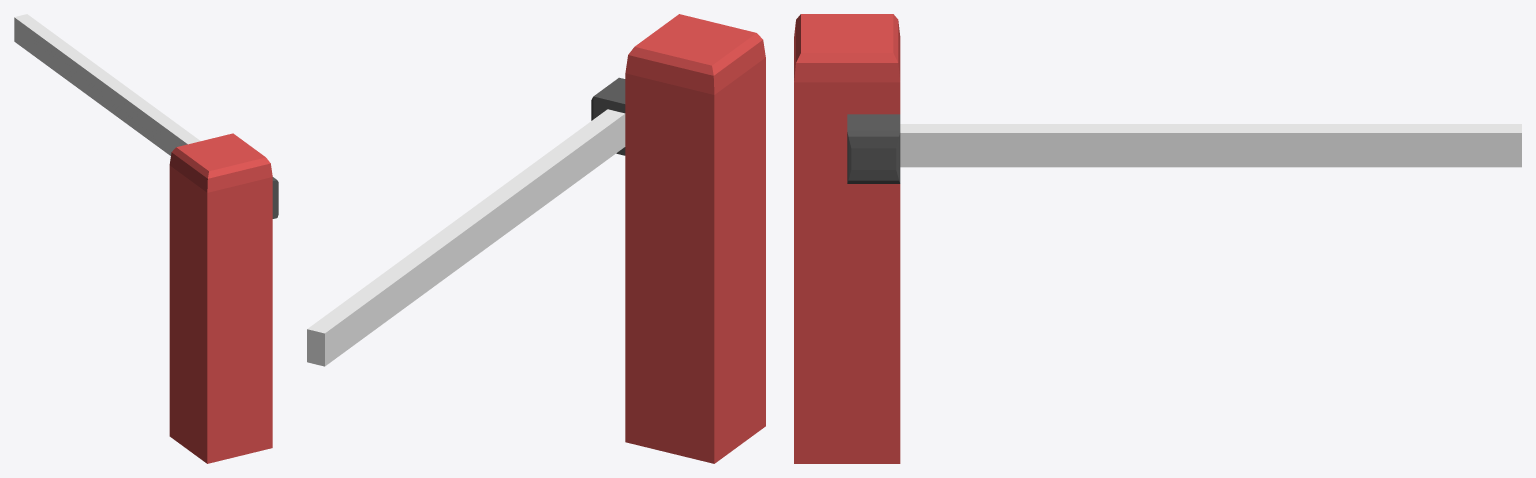
The model's file is Barrier 1.1.fbx.
3 views of the same model, side by side, from view 1: azimuth 30°, elevation 25°; view 2: azimuth 150°, elevation 25°; view 3: azimuth 270°, elevation 25° (orthographic). The views are drawn at different scales.
Visible parts, largest first — view 1: Barrier_6.001; view 2: Barrier_6.001; view 3: Barrier_6.001.
Boxes of the visible parts, left/top/right/bottom form: Barrier_6.001: left=14, top=14, right=278, bottom=463; Barrier_6.001: left=307, top=14, right=765, bottom=463; Barrier_6.001: left=794, top=14, right=1521, bottom=463.
Size of the model in its own units: 66.83 by 202 by 327.
